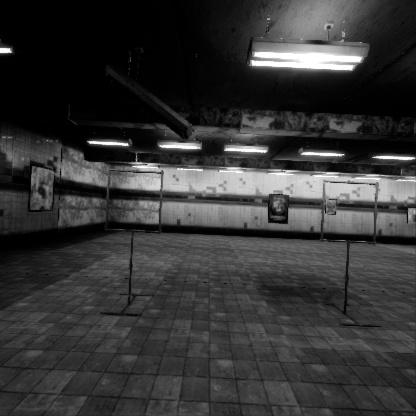gate: (105, 181, 168, 247), (321, 171, 384, 236)
